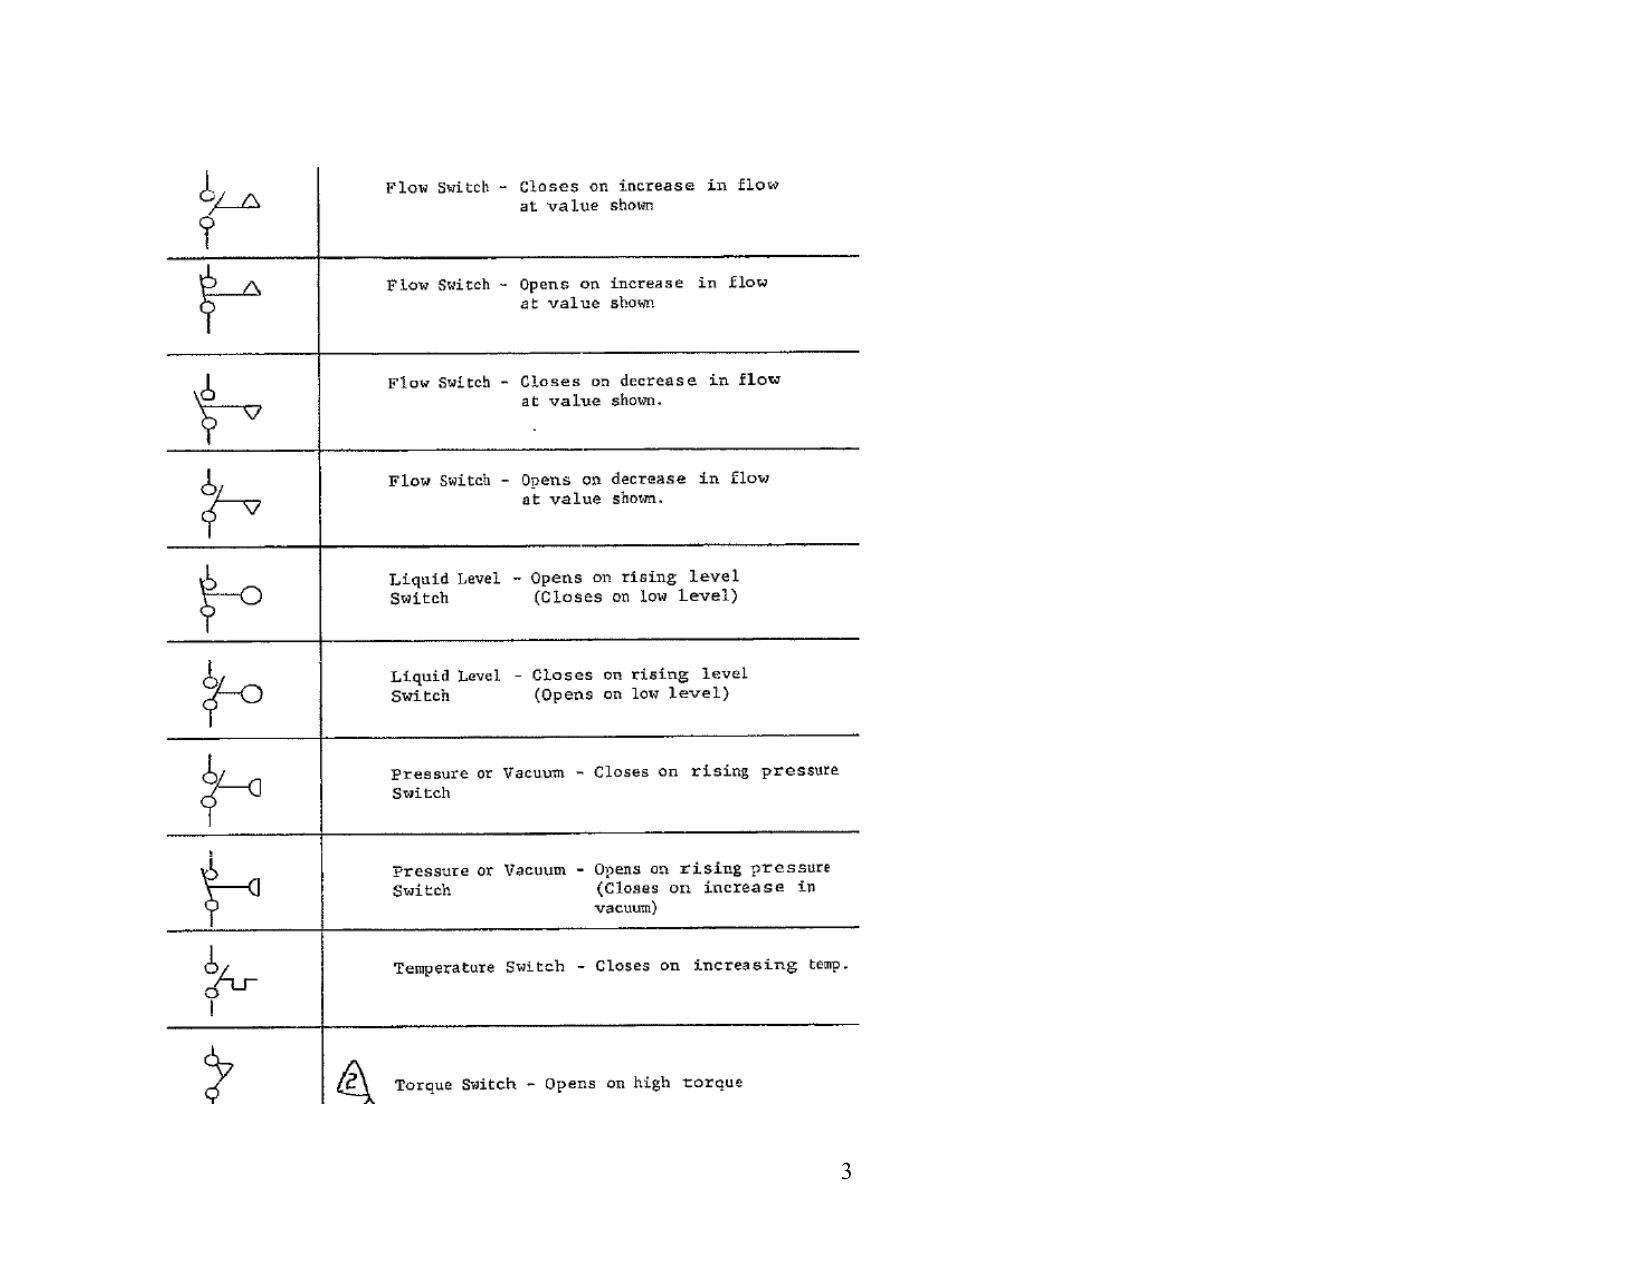switch: (167, 557, 300, 640), (169, 363, 303, 441), (174, 459, 287, 544), (181, 145, 267, 245), (179, 753, 284, 817), (181, 849, 275, 916), (182, 656, 276, 721), (189, 942, 272, 1008), (190, 1043, 262, 1117), (177, 268, 272, 321)
